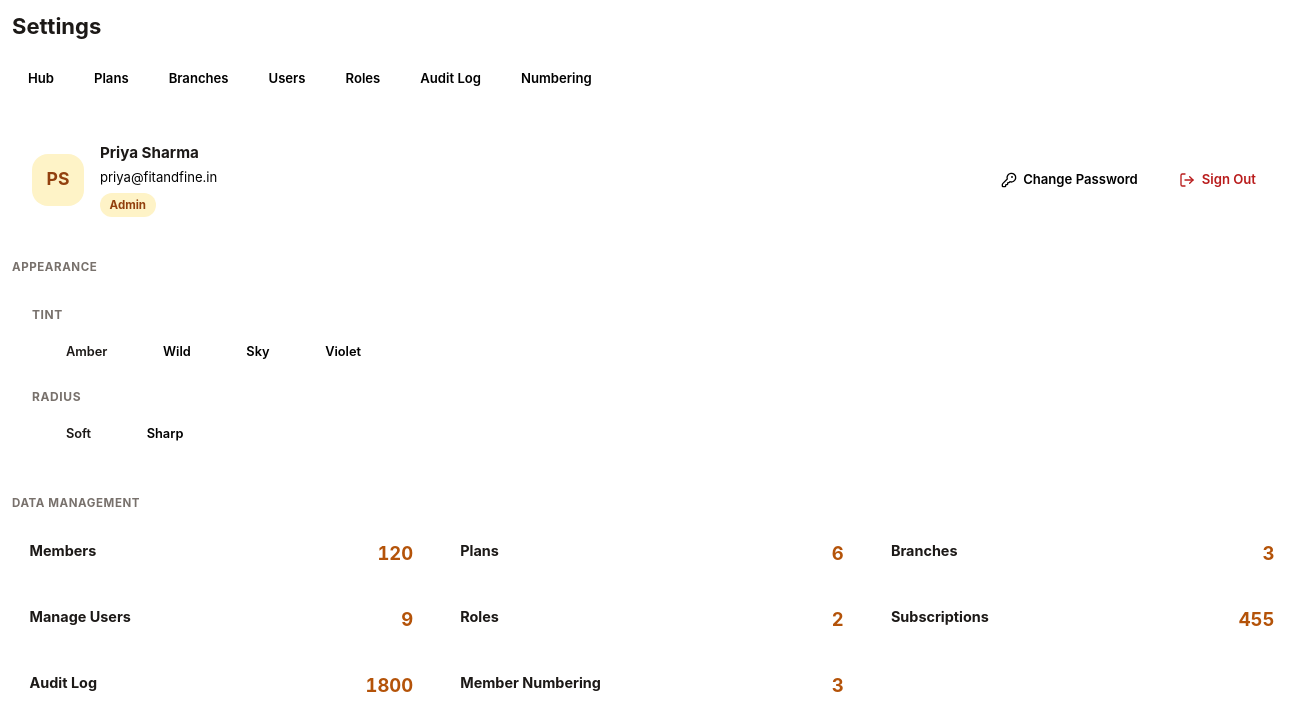
SettingsPage — account › Change Password sends a reset email to the signed-in address and confirms
This screenshot has width=1292, height=722.
Click the button "Change Password" at (1069, 180), box [985,158,1154,202]
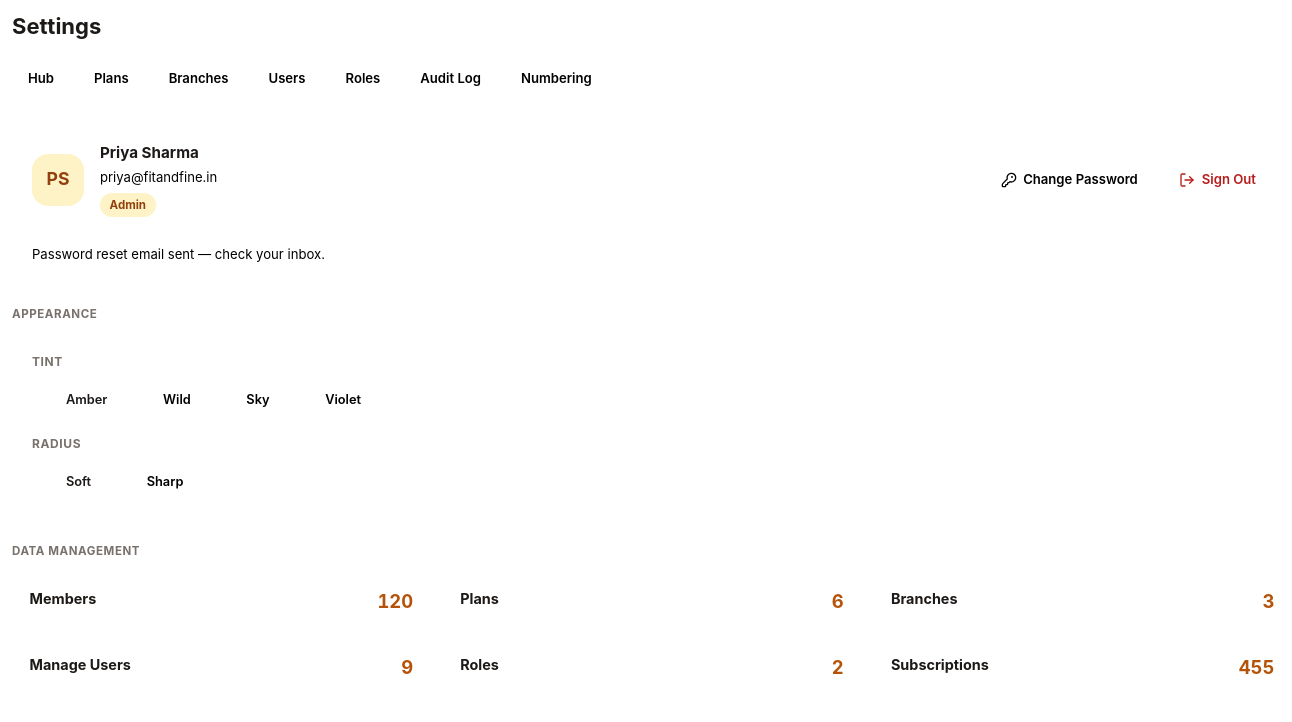
Result: the text "Password reset email sent — check your inbox." is shown at [32,246,325,262]
